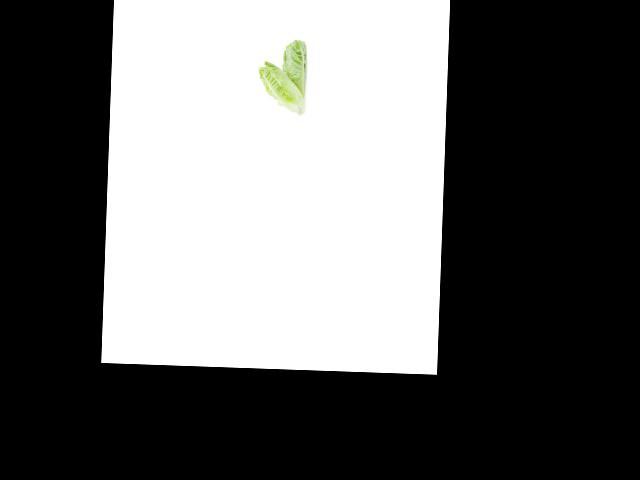lettuce: (279, 34, 312, 99)
